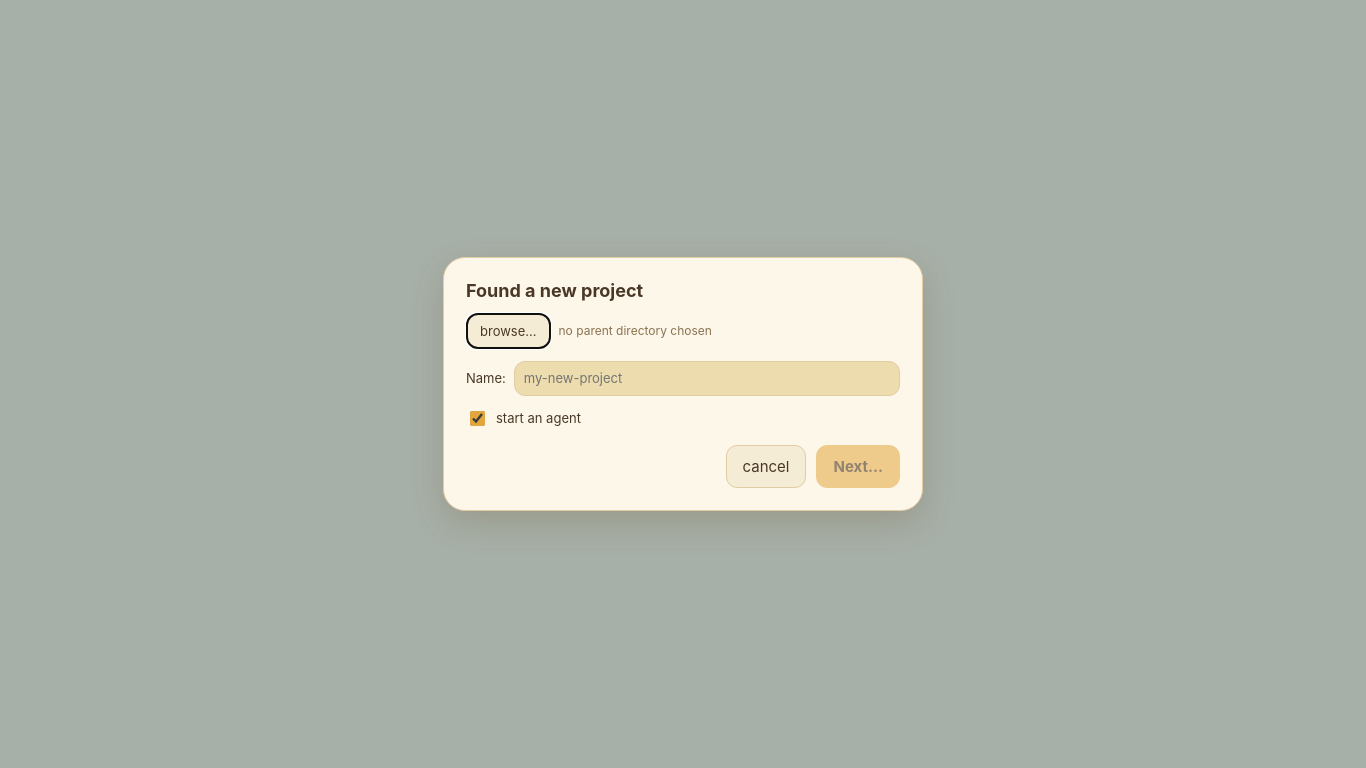
it: NewProjectPanel › shows the exact steps on the confirm screen before anything runs
Step 1. Click the button "browse…" → (508, 331), box [466,313,550,349]
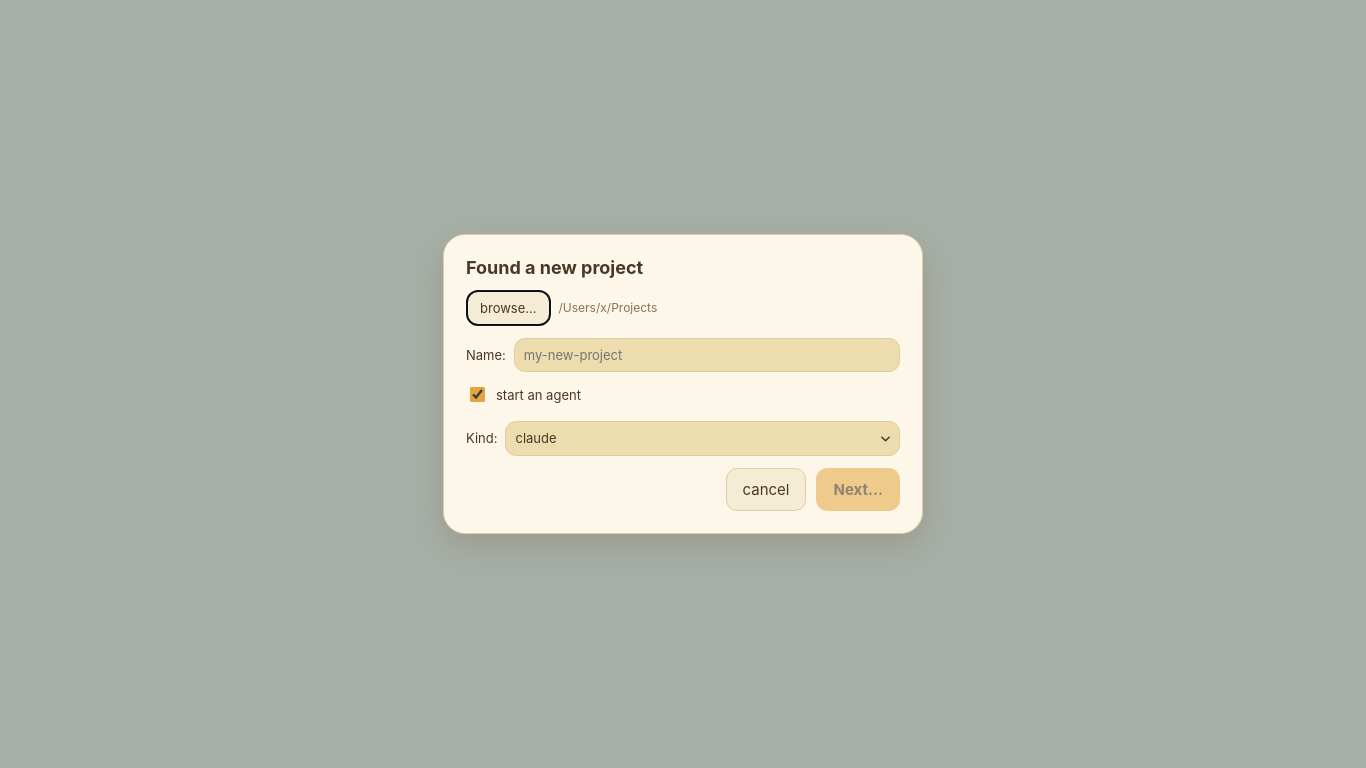
Expected: the text "/Users/x/Projects" is shown, [558,299,657,318]
Step 2. Type "widget" into the field with placeholder "my-new-project" → (707, 355), box [514,338,900,372]
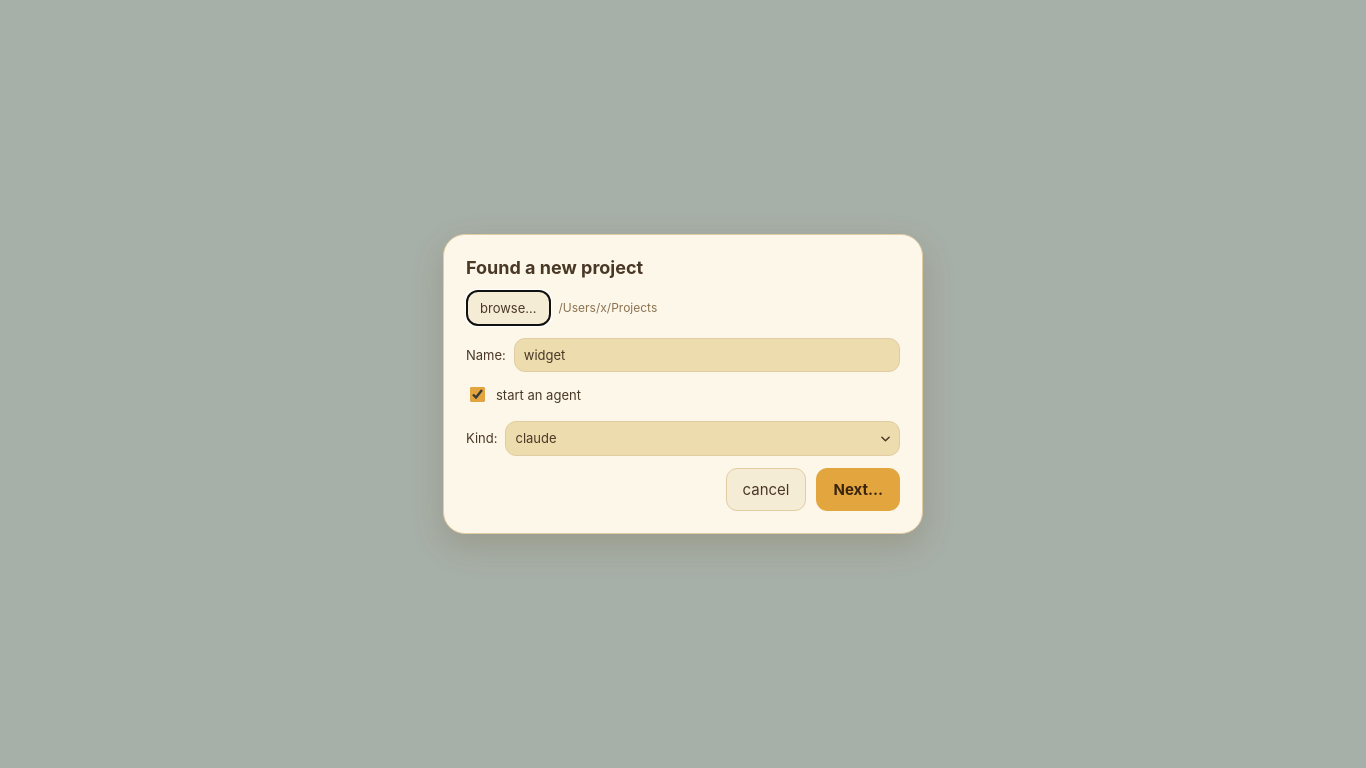
Step 3. Click the button "Next…" → (858, 489), box [816,468,900,511]
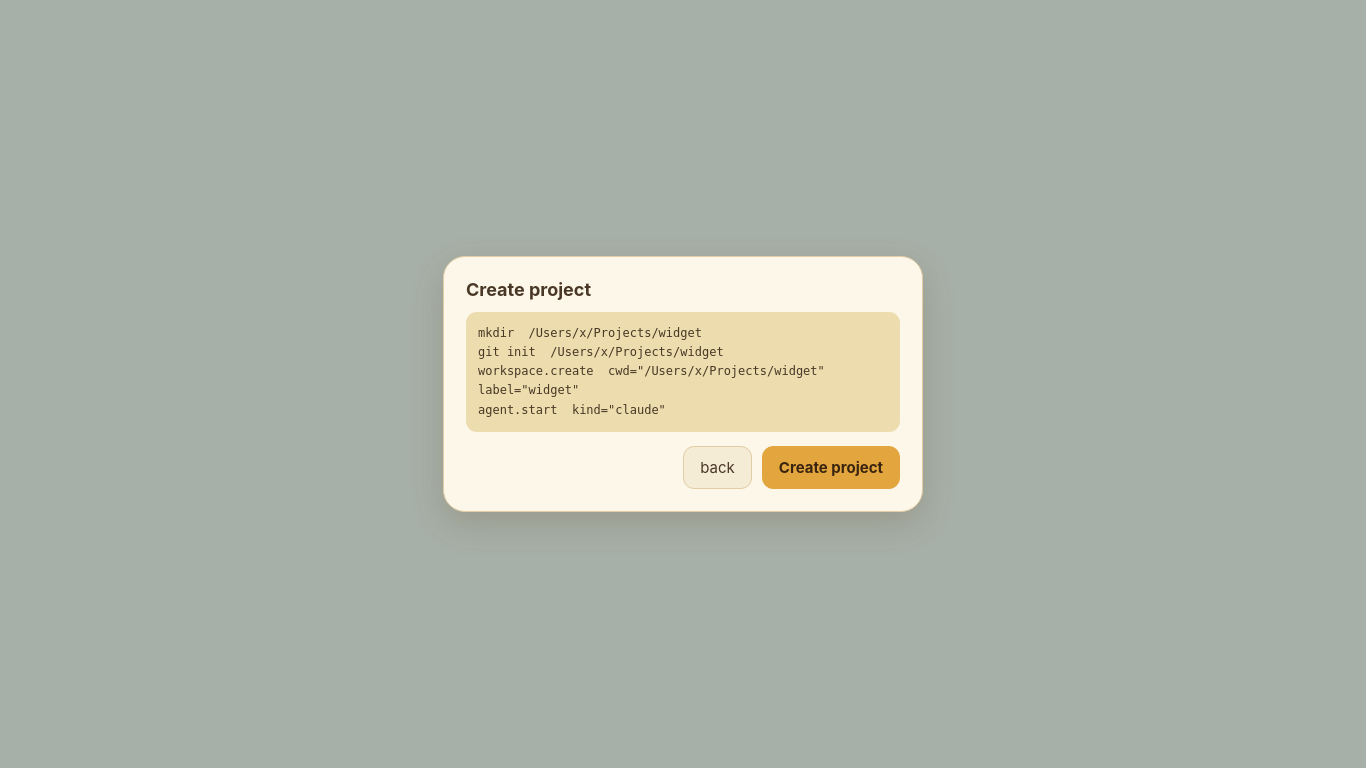
Expected: the heading "Create project" is shown, [466,279,591,300]
Expected: the text "workspace.create" is shown, [478,326,839,417]
